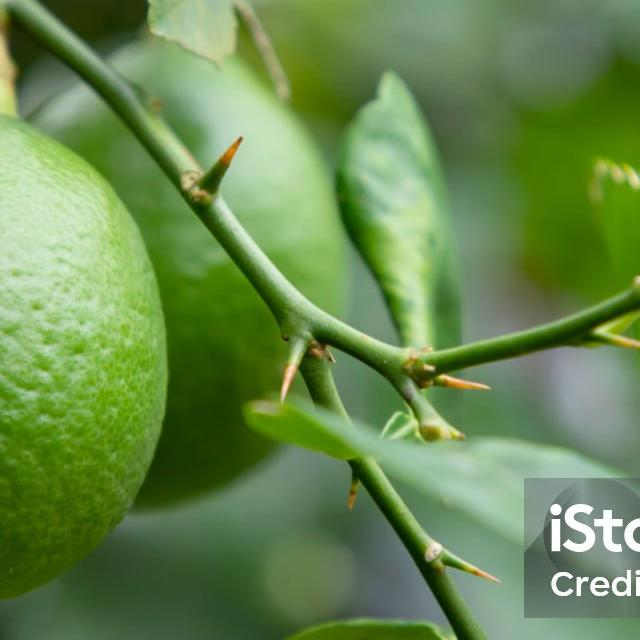lime: (0, 115, 173, 605)
